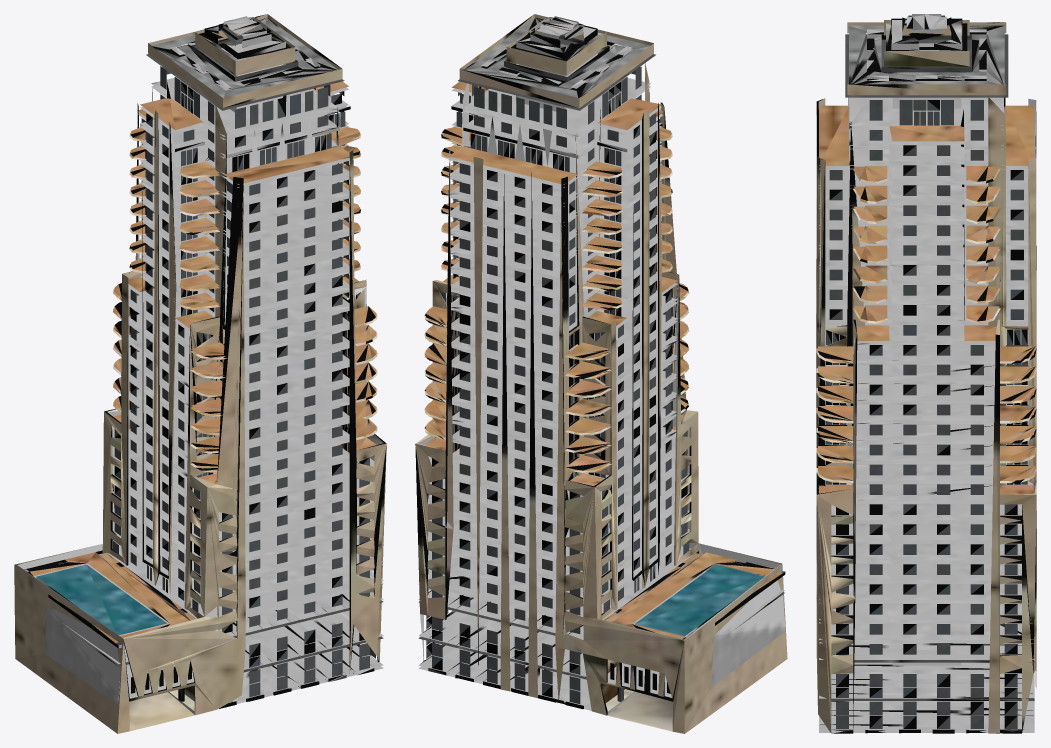
File: hotel_tower_lod1.glb
3 renders of one model, left to right at view 1: azimuth 30°, elevation 25°; view 2: azimuth 150°, elevation 25°; view 3: azimuth 270°, elevation 25°, orthographic. The views are drawn at different scales.
Parts seen in each view (by area): view 1: hotel_tower; view 2: hotel_tower; view 3: hotel_tower.
Boxes of the visible parts, left/top/right/bottom form: hotel_tower: left=14, top=14, right=386, bottom=733; hotel_tower: left=415, top=14, right=787, bottom=733; hotel_tower: left=816, top=14, right=1036, bottom=733.
Bounding box in the file's own units: 67.5 × 150 × 45.12.
1 material, 1 textured.
